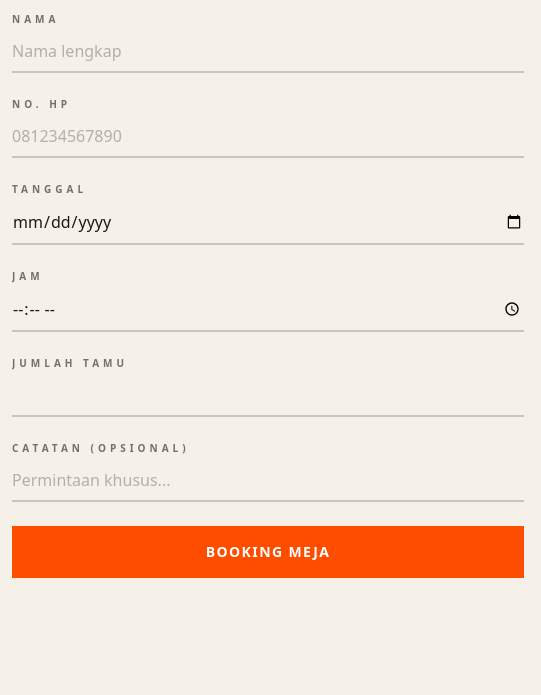
Test case: BookingForm › shows error when name is empty on submit
This screenshot has width=541, height=695.
Click the button "Booking Meja" at (268, 552), box [12,526,524,578]
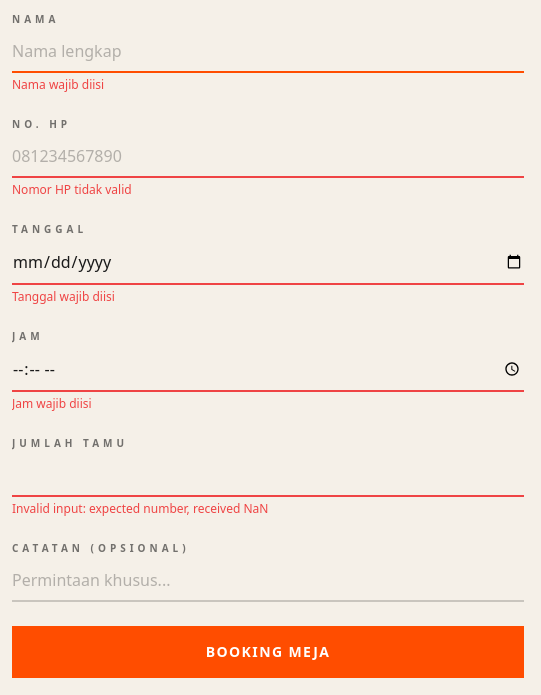
Expected: the text "Nama wajib diisi" is shown, [12,76,104,93]
